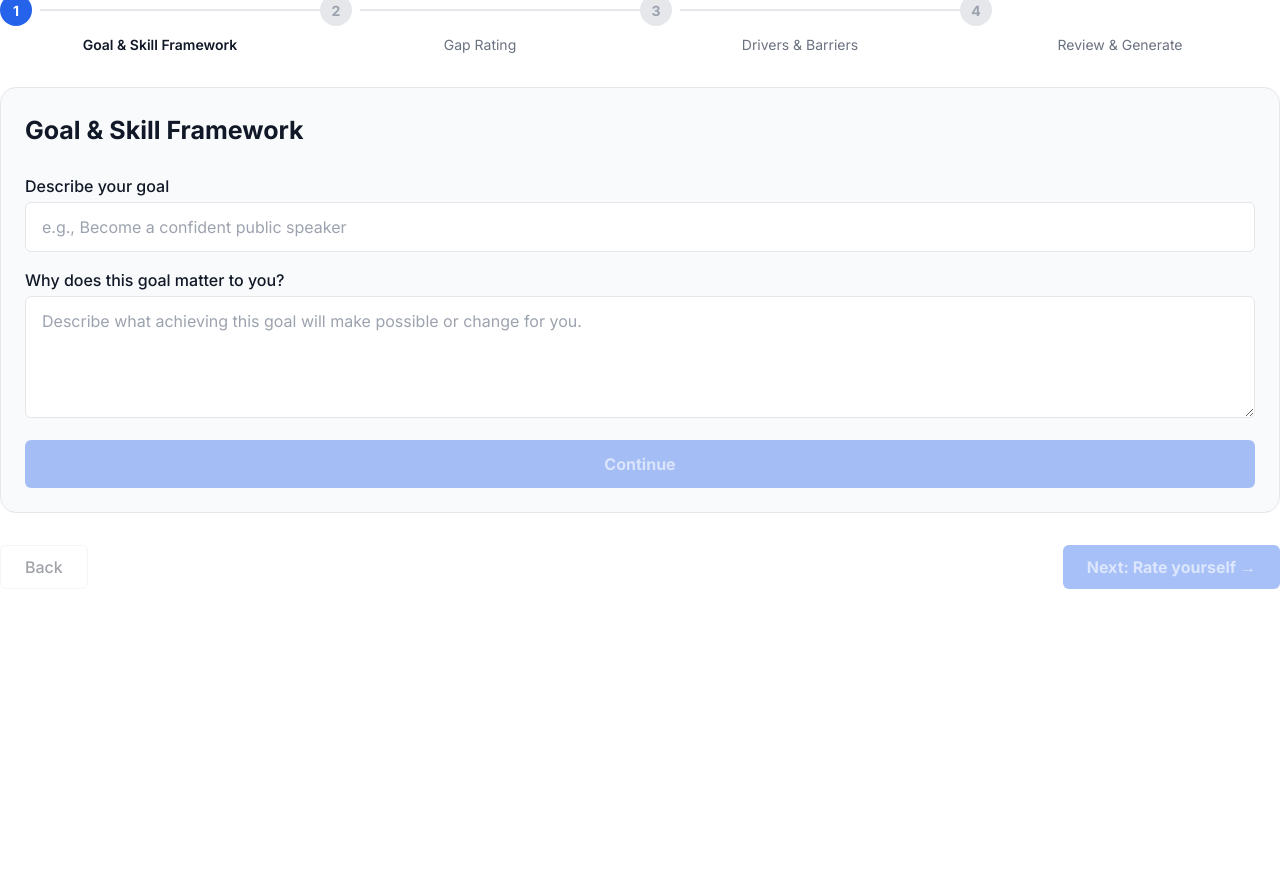
Scenario: WizardStep3 › Add driver / barrier › appends a trimmed driver and clears the input
The width and height of the screenshot is (1280, 894).
Type "Learn to present" into the field labelled "Describe your goal".
click(640, 226); type("Learn to present")  # box top-left (25, 202), bottom-right (1255, 252)
Replace the text in the text box labelled "Why does this goal matter to you?" with "To grow." at (640, 356), box top-left (25, 296), bottom-right (1255, 418)
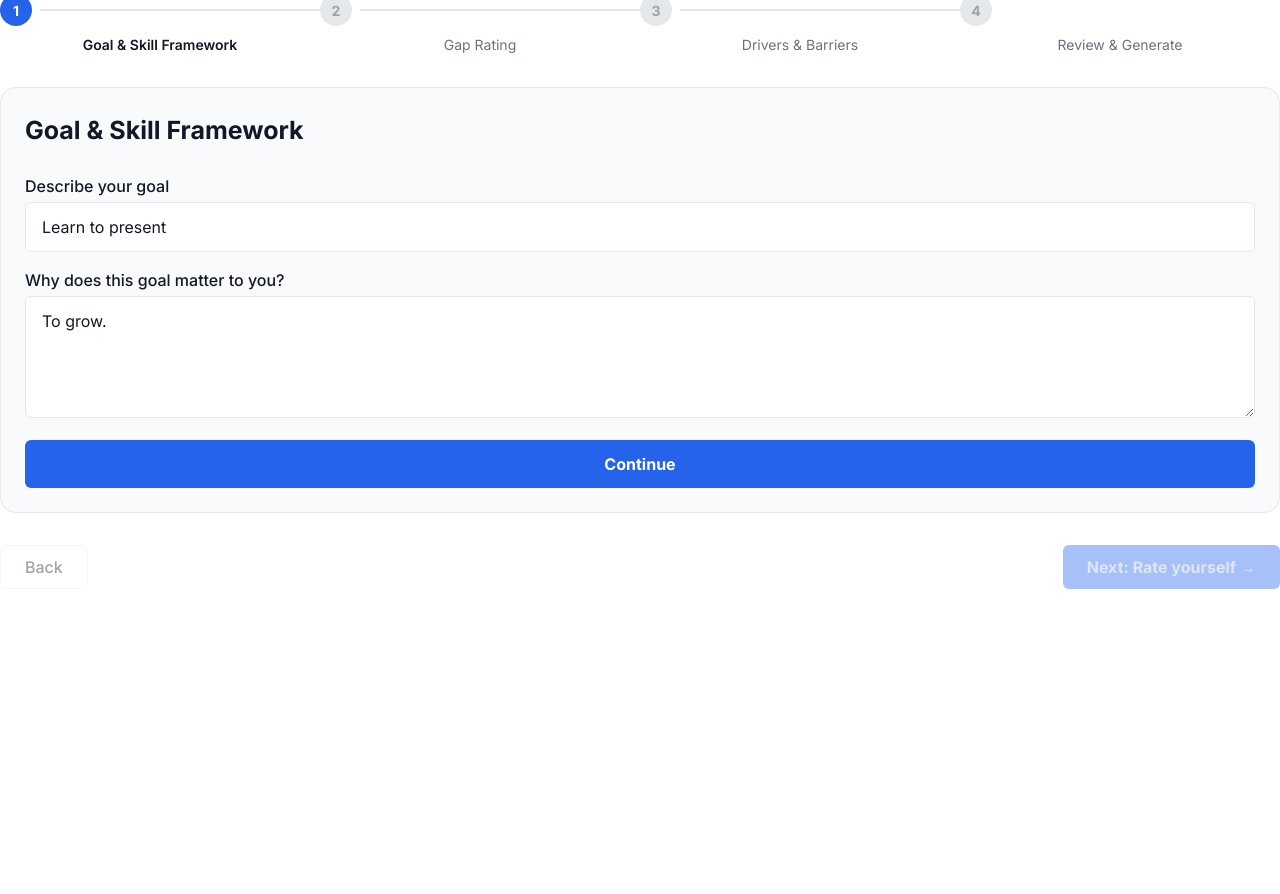
Click the button "Continue".
click(640, 464)  # box top-left (25, 440), bottom-right (1255, 488)
(page scrolled)
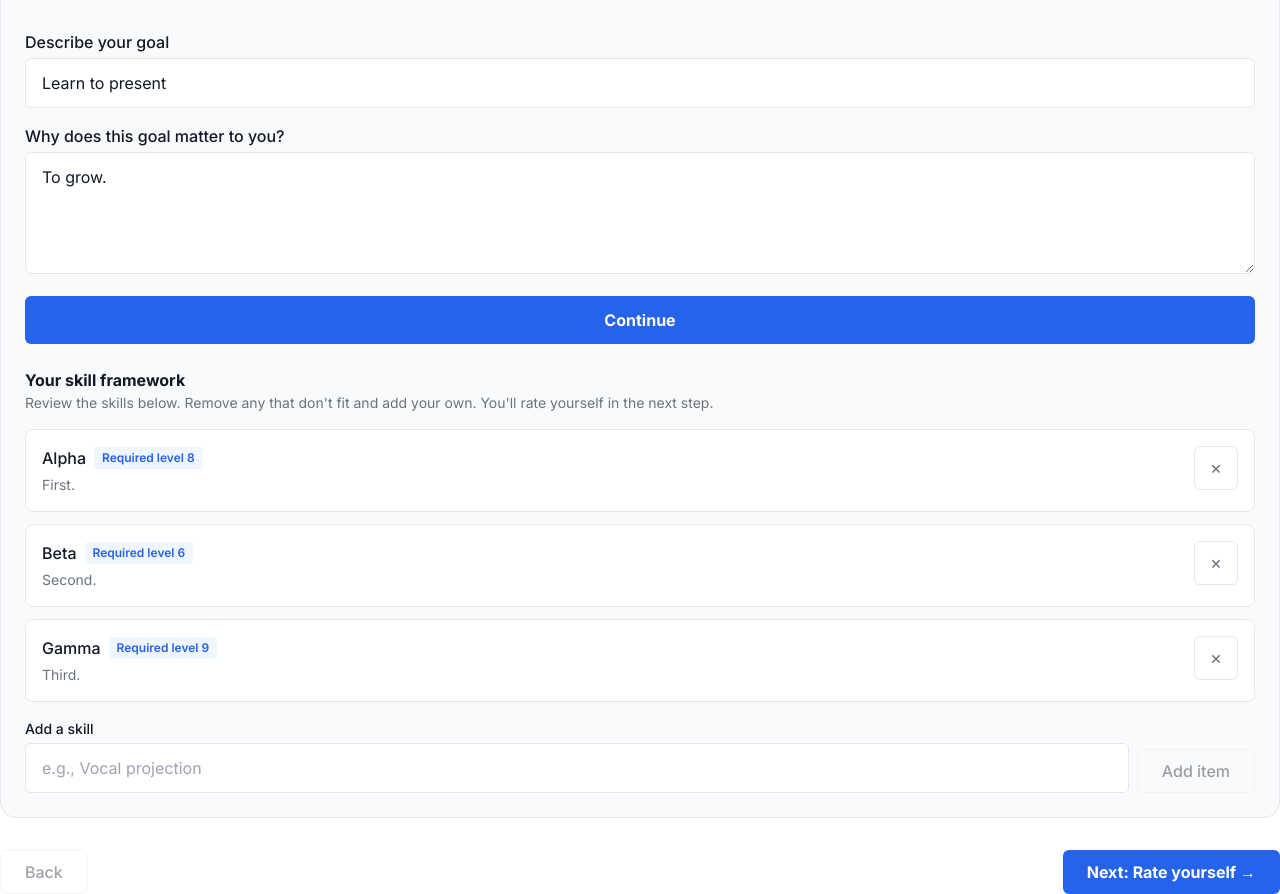
Expected: the heading "Your skill framework" is shown, top-left (25, 370), bottom-right (185, 390)
Click the button "Next: Rate yourself →".
click(1171, 872)  # box top-left (1063, 850), bottom-right (1279, 893)
(page scrolled)
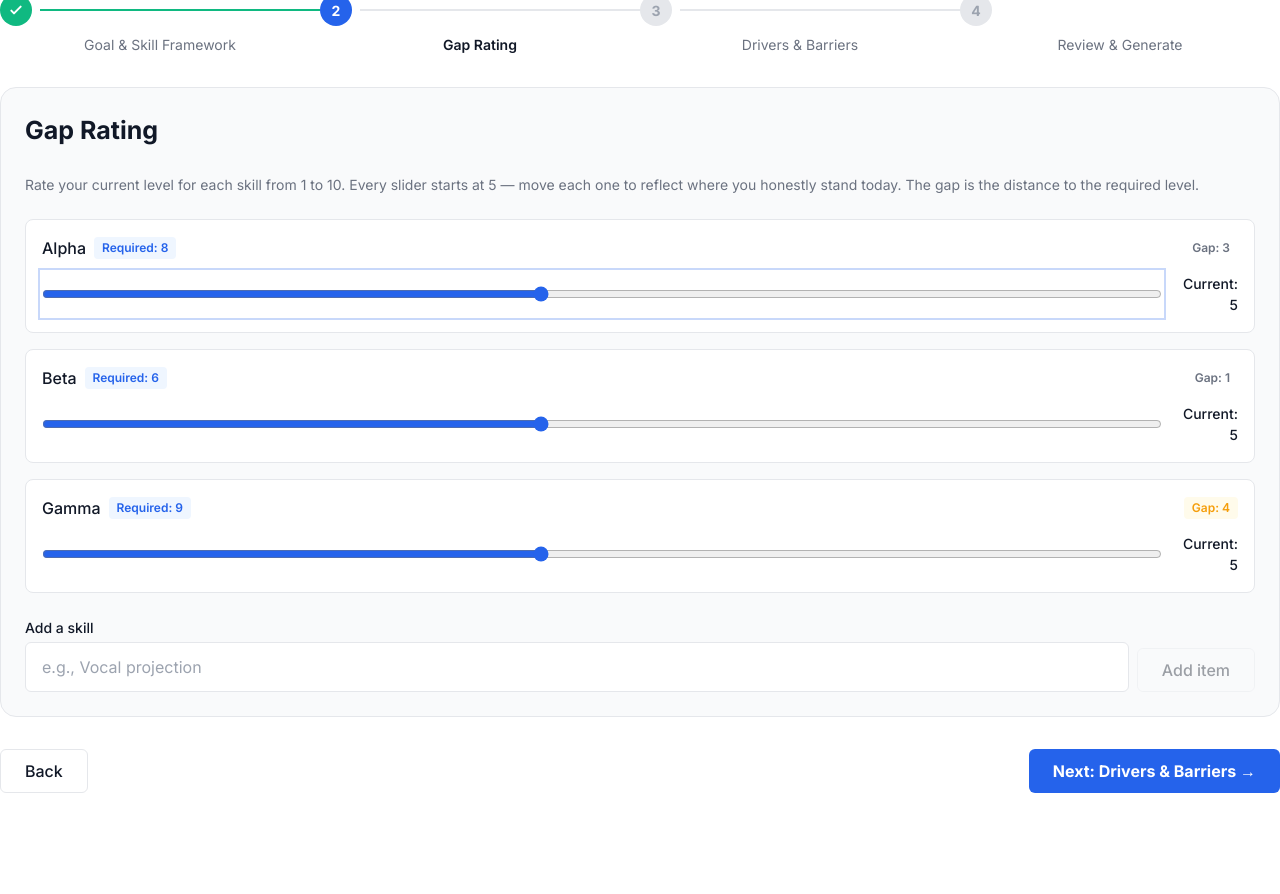
Expected: the heading "Gap Rating" is shown, top-left (25, 115), bottom-right (158, 145)
Click the button "Next: Drivers & Barriers →".
click(1154, 770)  # box top-left (1029, 748), bottom-right (1279, 792)
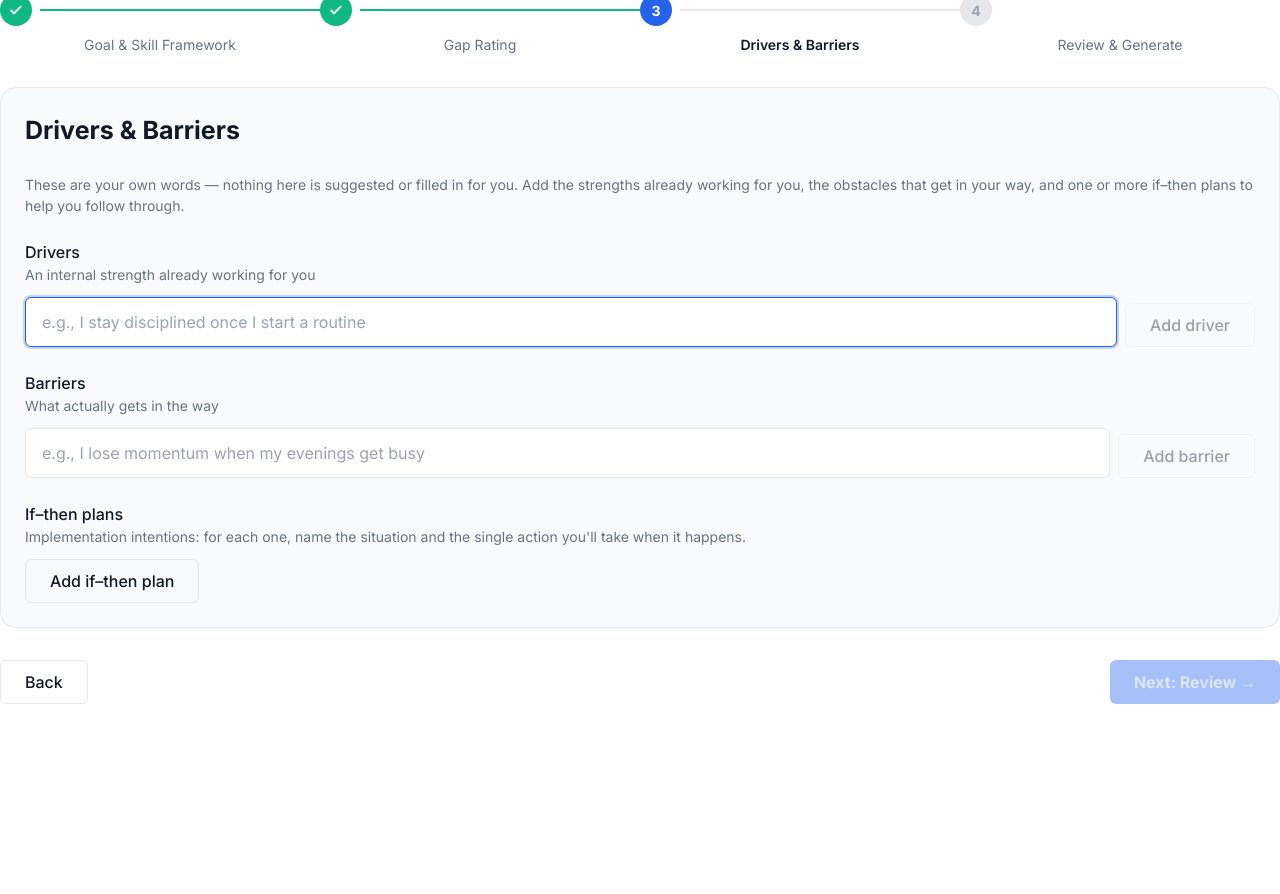
Expected: the heading "Drivers & Barriers" is shown, top-left (25, 115), bottom-right (240, 145)
Type "  I stay focused  " into the field labelled "Drivers".
click(571, 322); type("  I stay focused  ")  # box top-left (25, 296), bottom-right (1117, 346)
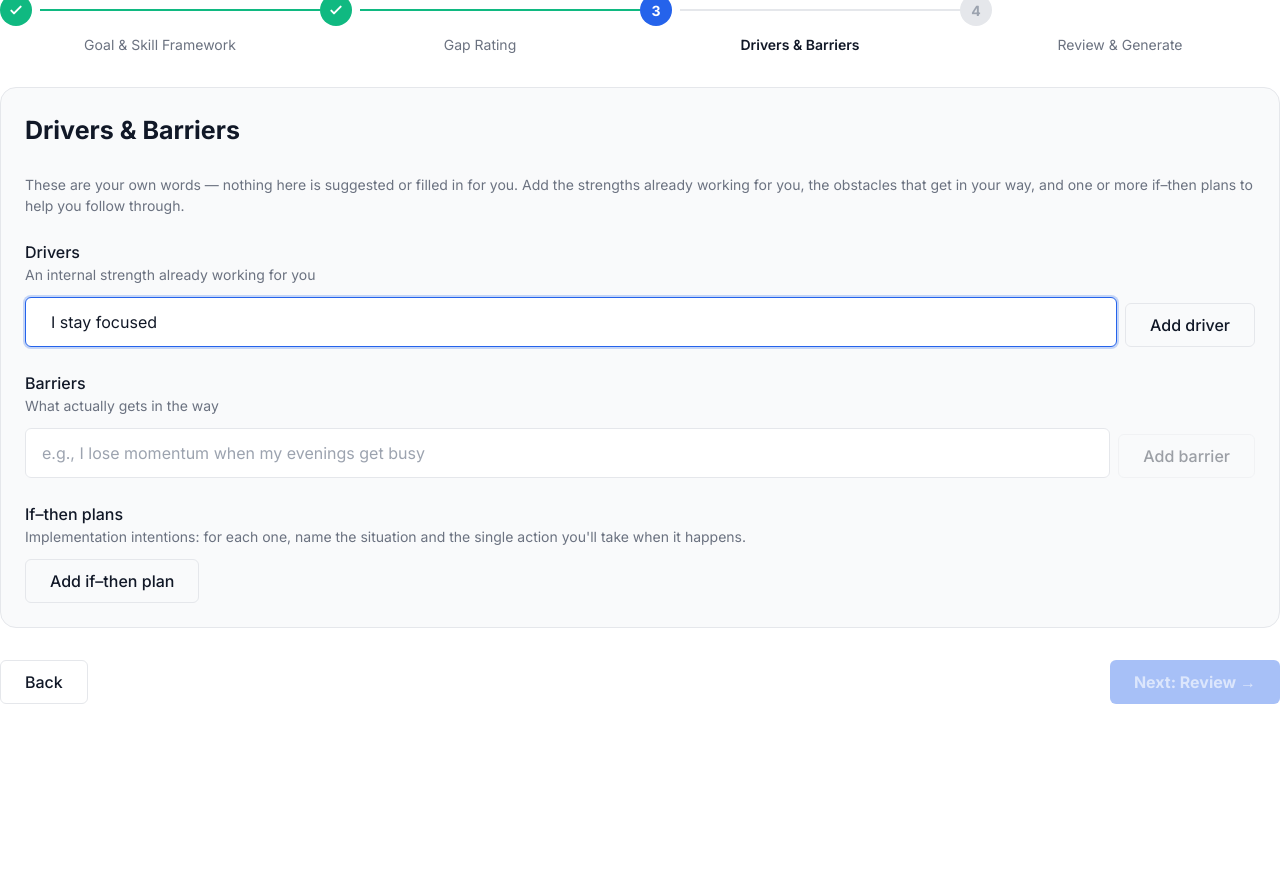
Click the button "Add driver".
click(1190, 324)  # box top-left (1125, 302), bottom-right (1255, 346)
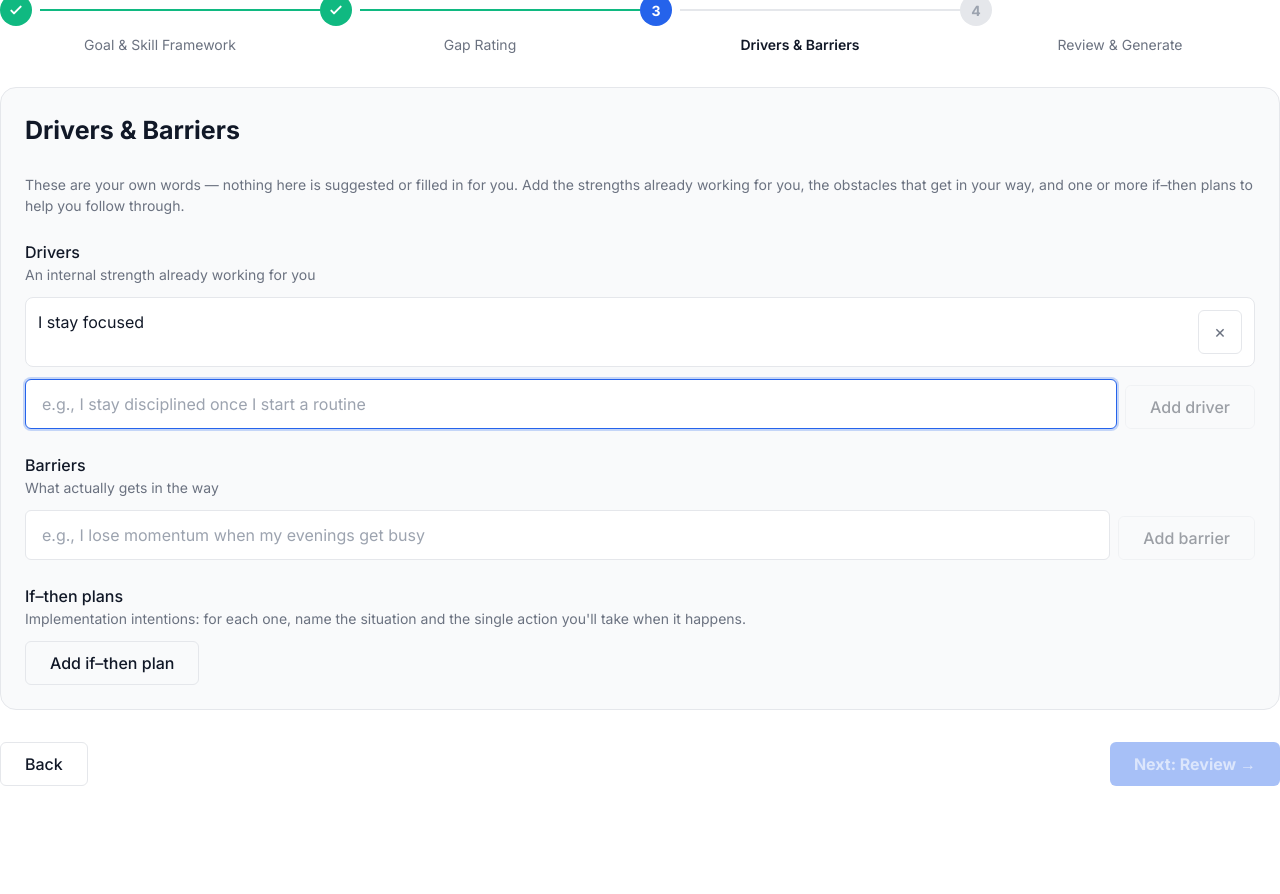
Expected: the button named "Remove driver: I stay focused" is shown, top-left (1198, 310), bottom-right (1242, 354)
Expected: the field labelled "Drivers" is empty, top-left (25, 378), bottom-right (1117, 428)
